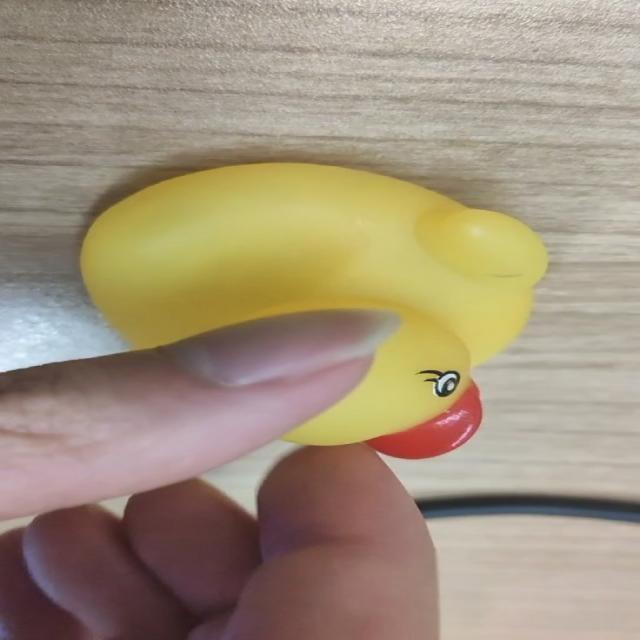rubber-duck: (80, 162, 546, 456)
